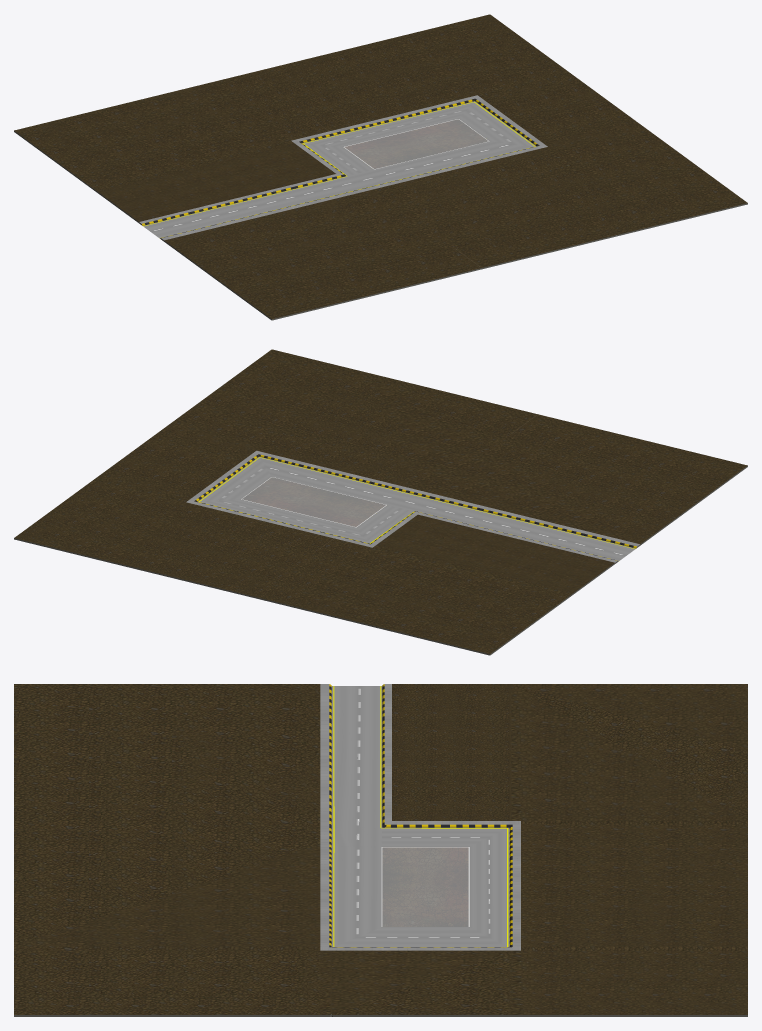
Rendered from ground.fbx.
The picture shows the model from 3 angles, top to bottom: view 1: azimuth 30°, elevation 25°; view 2: azimuth 150°, elevation 25°; view 3: azimuth 270°, elevation 25°; orthographic projection. The views are drawn at different scales.
Parts seen in each view (by area): view 1: road_ground; view 2: road_ground; view 3: road_ground.
Boxes of the visible parts, x1,y1,x2,y2 form: road_ground: (14, 14, 747, 320); road_ground: (14, 349, 747, 655); road_ground: (14, 684, 747, 1016).
Size of the model in its own units: 2084 by 5.83 by 1955.
